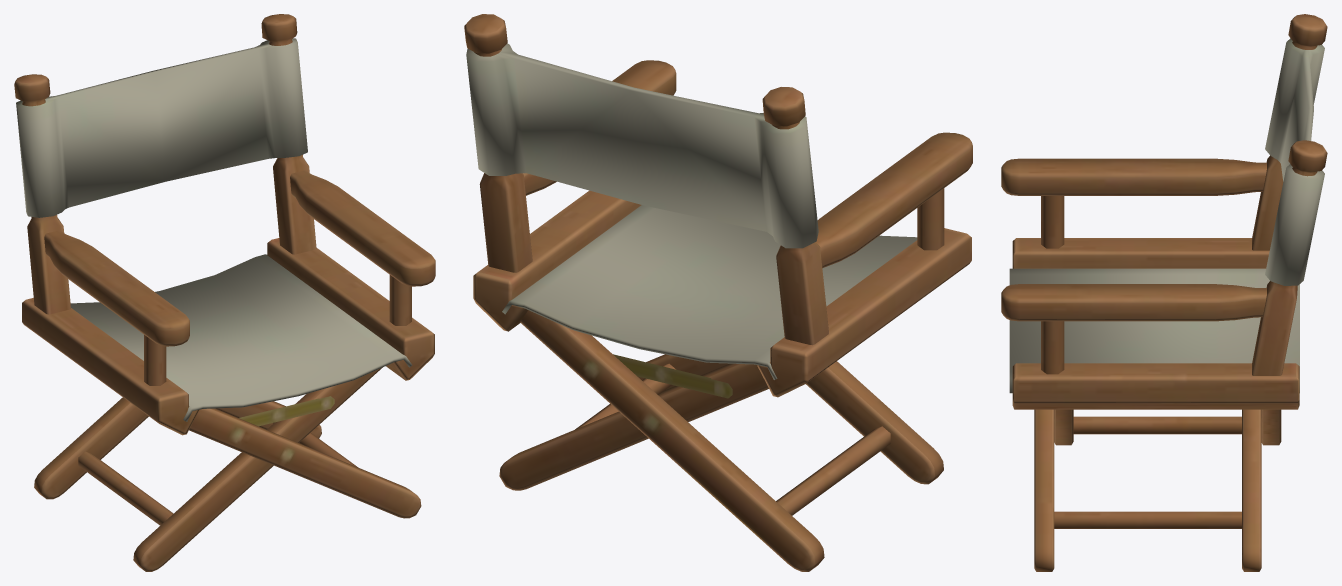
3 views of the same model, side by side, from view 1: azimuth 30°, elevation 25°; view 2: azimuth 150°, elevation 25°; view 3: azimuth 270°, elevation 25° (orthographic). The views are drawn at different scales.
Bounding box in the file's own units: 7.74 × 10.8 × 7.5.
2 materials, 2 textured.
